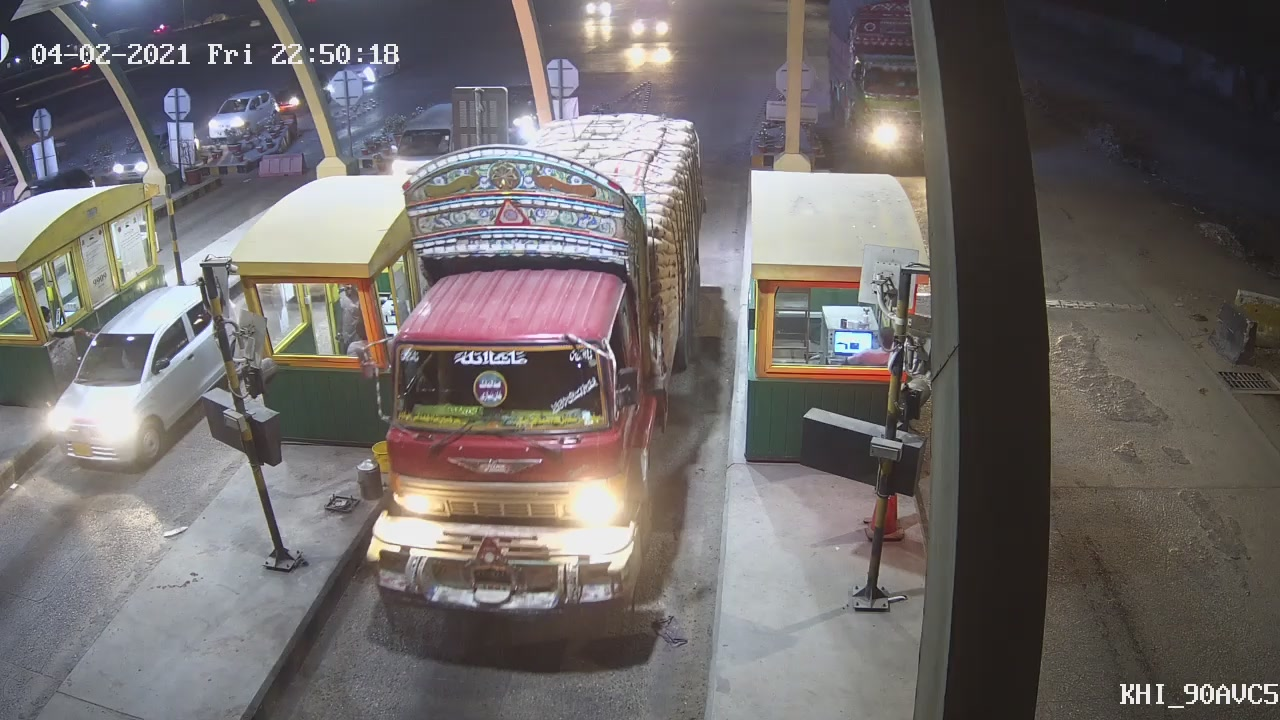F5: (360, 218, 677, 616)
